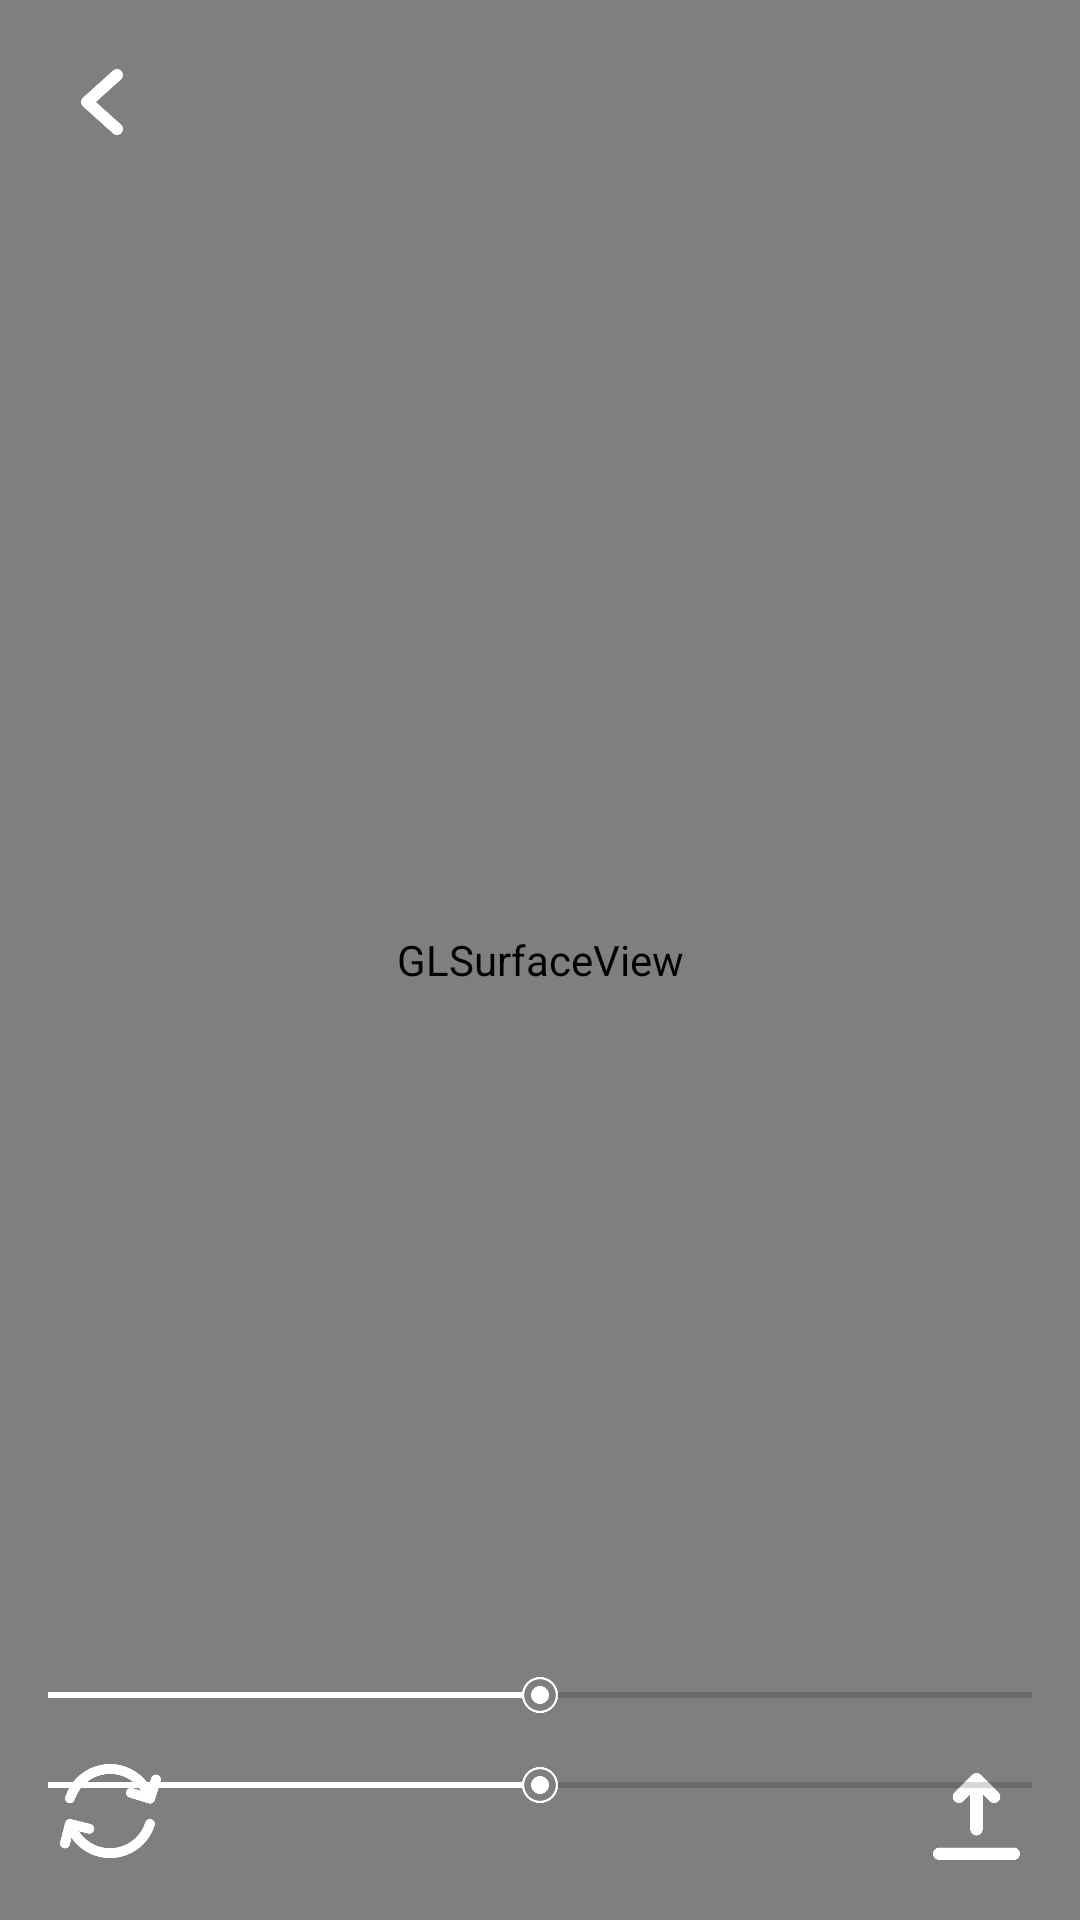

Point at icon controls on the screen. Image size 1080×1920, points as [x,y].
back arrow: [102,102]
Upload: [976,1816]
